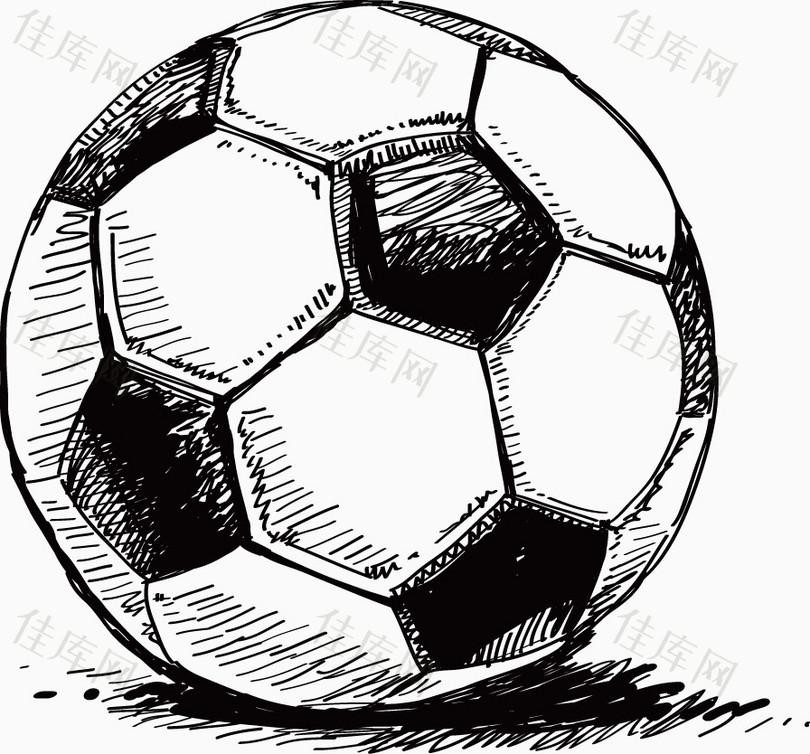football: (24, 9, 722, 717)
